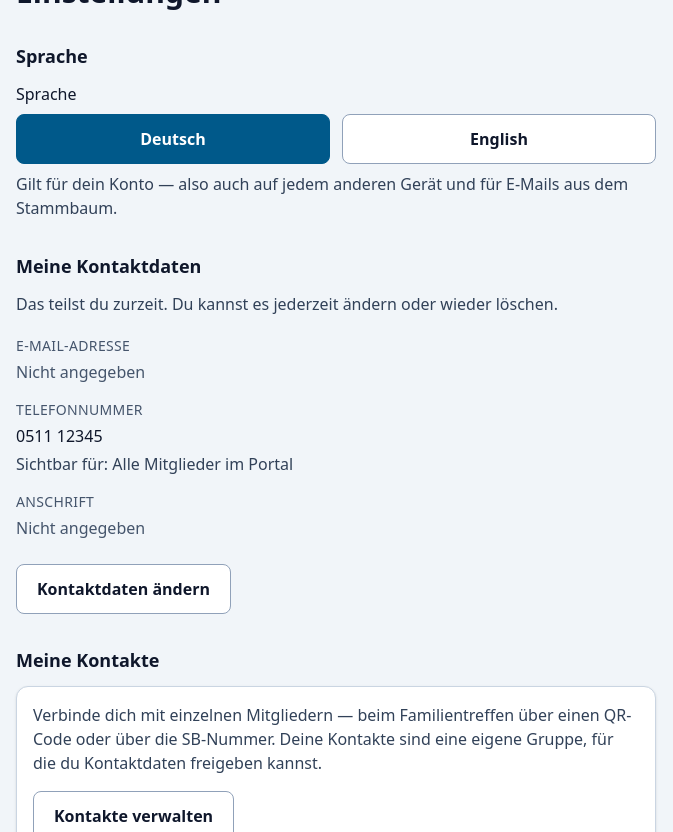
my own contact details › forgets a change that was abandoned
Click the button "Kontaktdaten ändern".
click(123, 589)  # box x1=16 y1=564 x2=231 y2=614
(page scrolled)
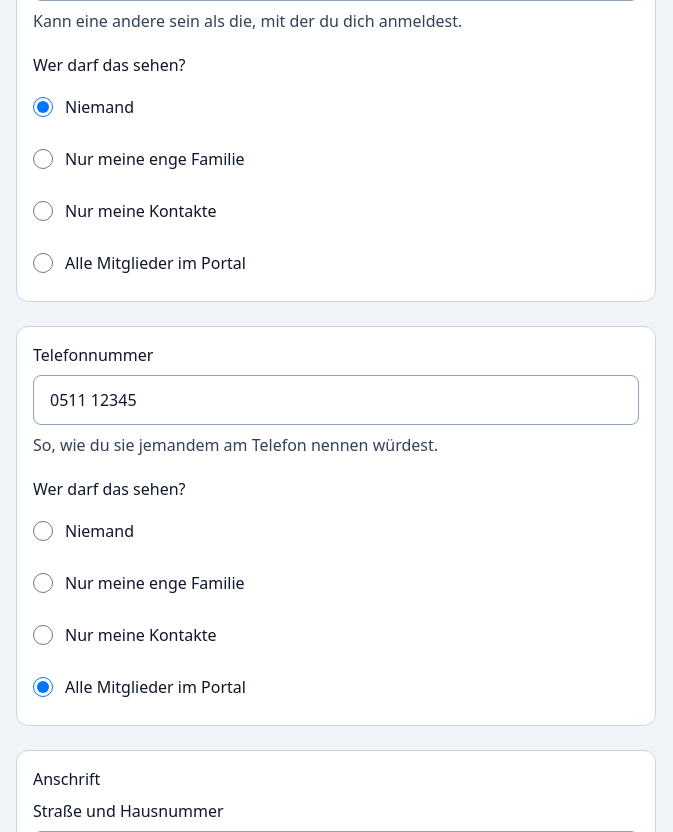
Replace the text in the field labelled "Telefonnummer" with "0511 99999" at (336, 400), box x1=33 y1=375 x2=639 y2=425
(page scrolled)
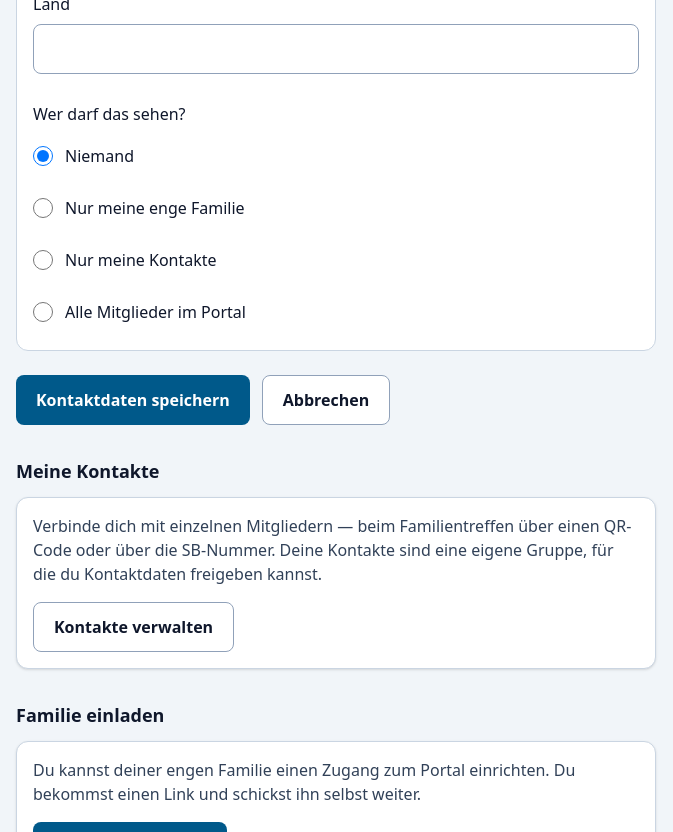
Click the button "Abbrechen".
click(326, 400)  # box x1=262 y1=375 x2=390 y2=425
(page scrolled)
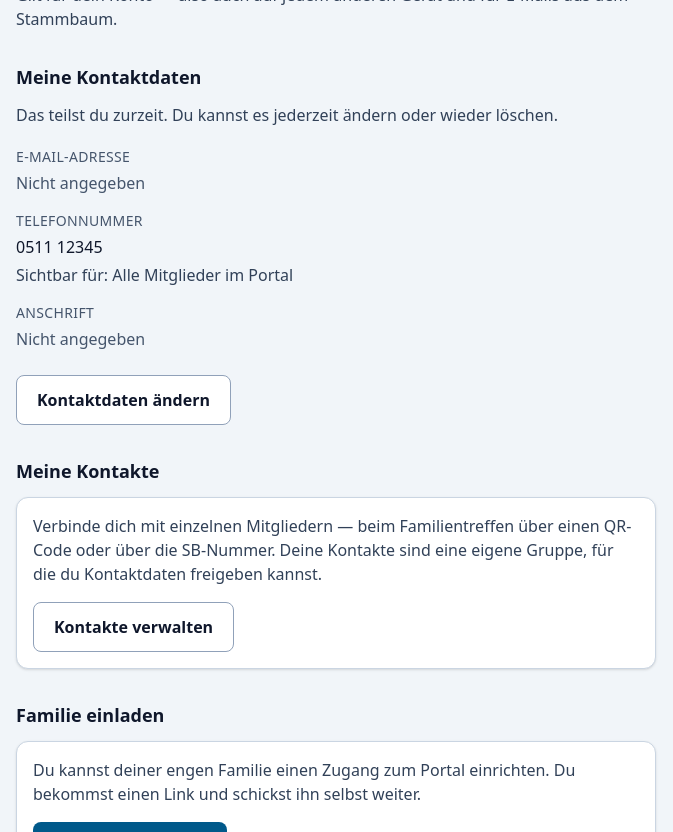
Expected: the text "0511 12345" is shown, x1=16 y1=236 x2=102 y2=258
Click the button "Kontaktdaten ändern".
click(123, 400)  # box x1=16 y1=375 x2=231 y2=425
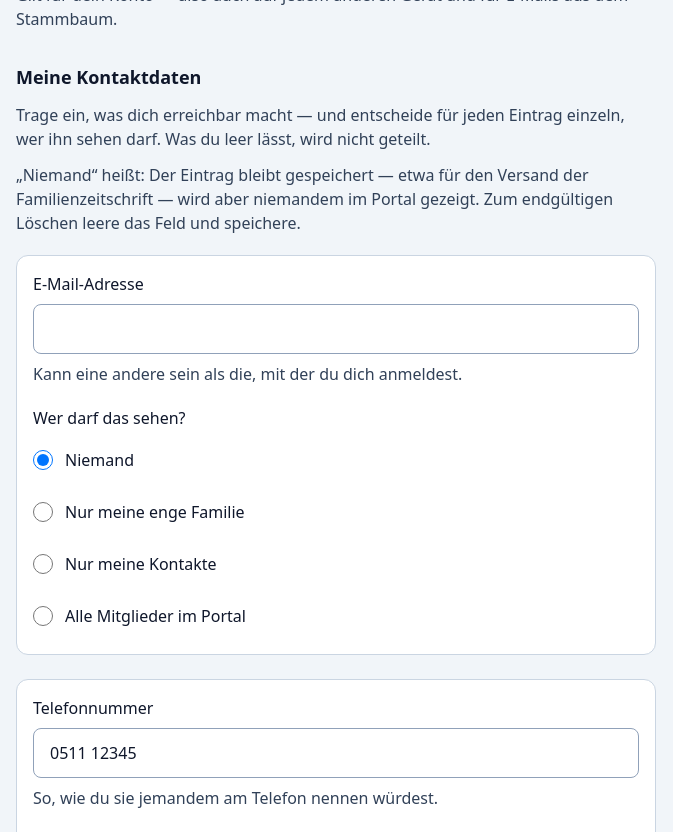
Expected: the field showing "0511 12345" is shown, x1=33 y1=728 x2=639 y2=778
